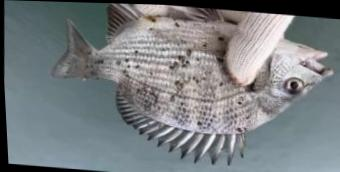fish: (48, 2, 337, 163)
